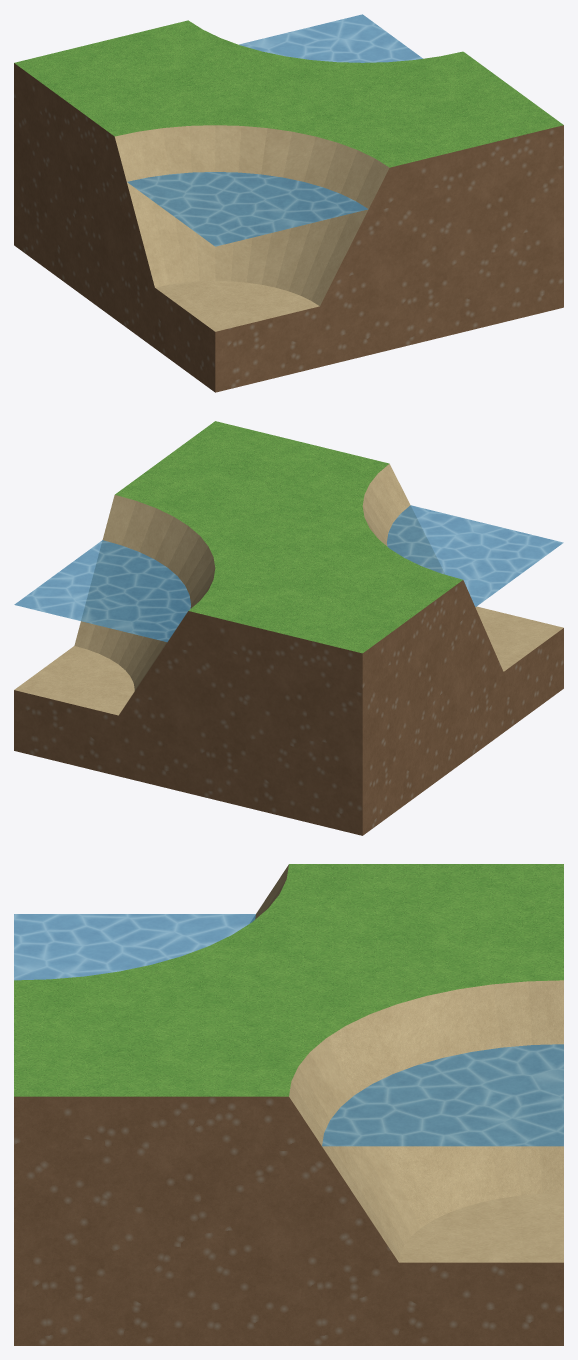
The model's file is Water_Diagonal_H.fbx.
3 views of the same model, one above another, from view 1: azimuth 30°, elevation 25°; view 2: azimuth 150°, elevation 25°; view 3: azimuth 270°, elevation 25° (orthographic). The views are drawn at different scales.
Parts seen in each view (by area): view 1: Water_Diagonal_H, Water_Diagonal_H_Water; view 2: Water_Diagonal_H, Water_Diagonal_H_Water; view 3: Water_Diagonal_H, Water_Diagonal_H_Water.
Part boxes in pixels (bbox=[...]): Water_Diagonal_H: bbox=[14, 20, 563, 392]; Water_Diagonal_H_Water: bbox=[127, 14, 422, 246]; Water_Diagonal_H: bbox=[14, 421, 563, 835]; Water_Diagonal_H_Water: bbox=[14, 505, 563, 642]; Water_Diagonal_H: bbox=[14, 864, 563, 1345]; Water_Diagonal_H_Water: bbox=[14, 914, 563, 1146].
Bounding box in the file's own units: 3 × 1.5 × 3.
Materials: 4 (4 with a texture image).
